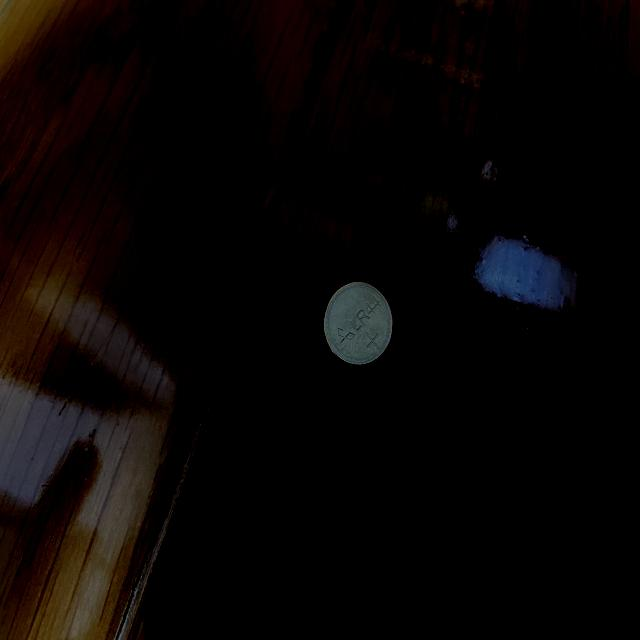COIN: (323, 282, 393, 379)
